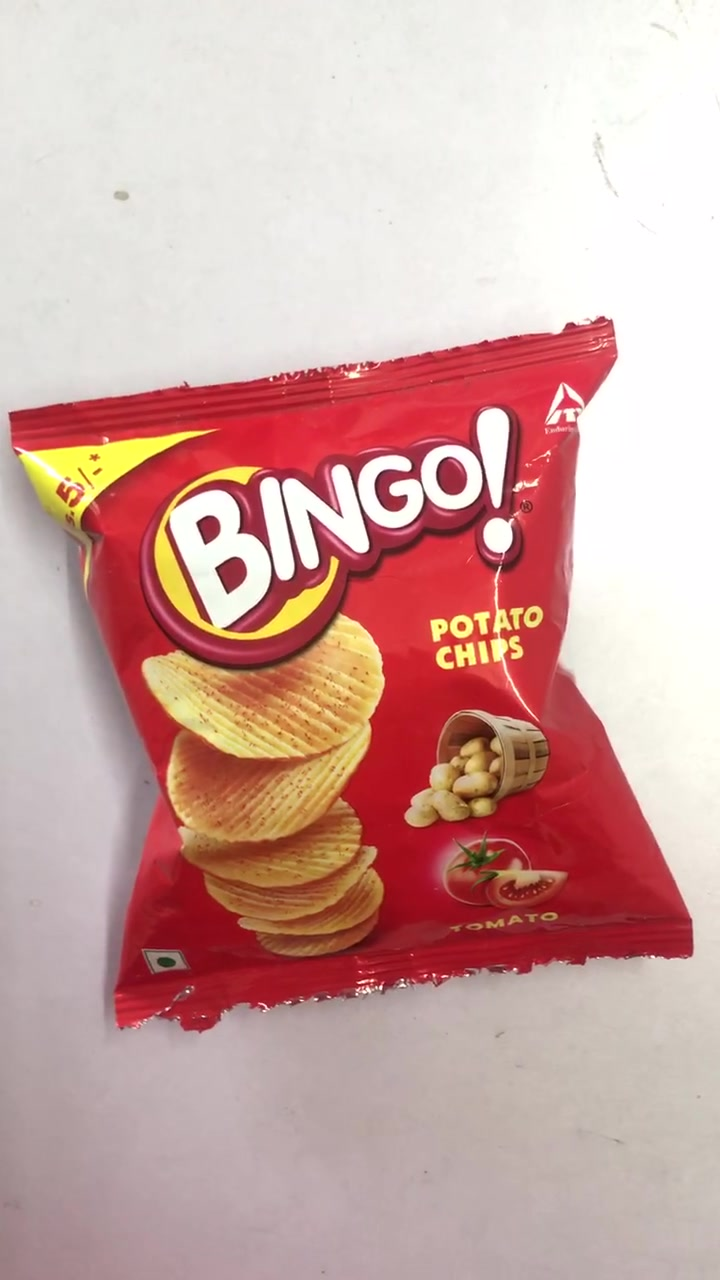Bingo: (13, 335, 695, 1005)
